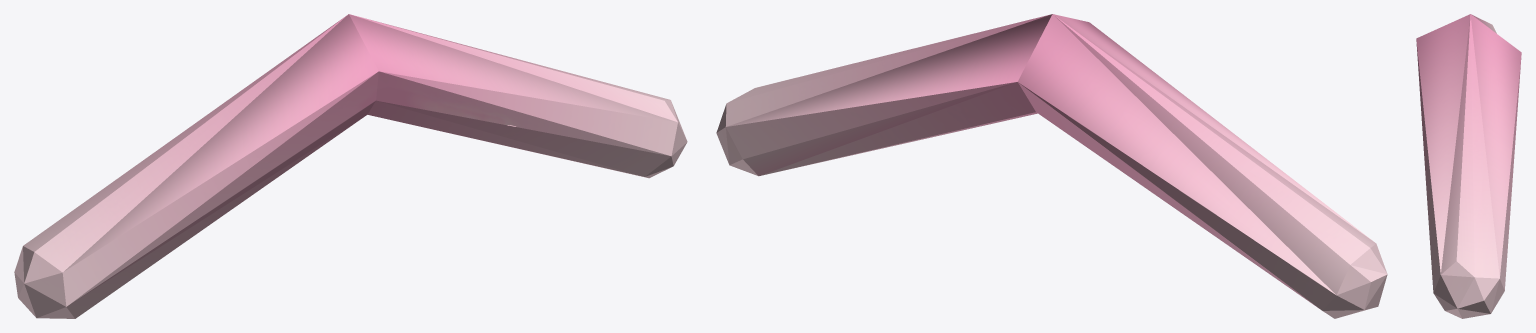
File: mouth_tic_down.dae
The picture shows the model from 3 angles, left to right: view 1: azimuth 30°, elevation 25°; view 2: azimuth 150°, elevation 25°; view 3: azimuth 270°, elevation 25°; orthographic projection. The views are drawn at different scales.
Visible parts, largest first — view 1: mouth_tic_down; view 2: mouth_tic_down; view 3: mouth_tic_down.
Boxes of the visible parts, bbox=[...] form: mouth_tic_down: bbox=[14, 14, 687, 318]; mouth_tic_down: bbox=[716, 14, 1387, 318]; mouth_tic_down: bbox=[1416, 14, 1521, 318].
Bounding box in the file's own units: 0.4987 × 0.0851 × 0.1677.
Materials: 1 (1 with a texture image).
